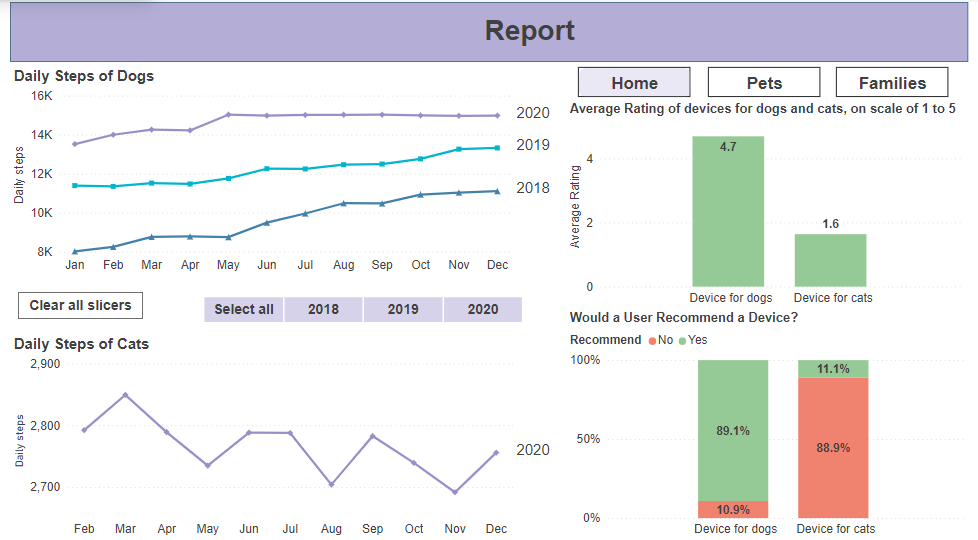

The dashboard page shown, as its layout file describes it:
{"tool":"powerbi","page":{"name":"Home","canvas":[1280,720],"ordinal":0},"visuals":[{"type":"lineChart","title":"Daily Steps of Dogs","fields":{"Y":["Avg(Tracker_Data.Daily_Steps)"],"Series":["Date_Table.Year"],"Category":["Date_Table.Month_Short"]},"box":[0,87.7,728.6,280.2],"z":0},{"type":"clusteredColumnChart","title":"Average Rating of devices for dogs and cats, on scale of 1 to 5 ","fields":{"Y":["Avg(Rating_Data.Rating)"],"Category":["Rating_Data.Device type"]},"box":[743,132.2,536,278.8],"z":1000},{"type":"shape","box":[0,0,1280,80],"z":2000},{"type":"actionButton","title":"Pets Info","box":[932.3,87.3,149.5,40.3],"z":3000},{"type":"actionButton","title":"Families Info","box":[1103.6,87.3,149.5,40.3],"z":4000},{"type":"lineChart","title":"Daily Steps of Cats","fields":{"Y":["Avg(Tracker_Data.Daily_Steps)"],"Series":["Date_Table.Year"],"Category":["Date_Table.Month_Short"]},"box":[0,445.5,728.6,274.5],"z":5000},{"type":"slicer","fields":{"Values":["Date_Table.Year"]},"box":[234.3,388,474.3,46],"z":6000},{"type":"textbox","box":[513.1,11.5,362.2,57.5],"z":7000},{"type":"hundredPercentStackedColumnChart","title":"Would a User Recommend a Device?","fields":{"Y":["CountNonNull(Rating_Data.Tracker_ID)"],"Category":["Rating_Data.Device type"],"Series":["Rating_Data.Recommend"]},"box":[743,411,536,309],"z":8000},{"type":"actionButton","title":"Pets Info","box":[759.3,87.3,149.5,40.3],"z":9000},{"type":"actionButton","box":[10.1,388,166.7,35.9],"z":11000}]}

Visuals, with their boxes in screenshot pixels (x1, y1, x2, y2), scaled from the page's 1280x720 canvas onto the 978x540 screenshot:
"Daily Steps of Dogs" lineChart: (0,66,557,276)
"Average Rating of devices for dogs and cats, on scale of 1 to 5 " clusteredColumnChart: (568,99,977,308)
shape: (0,0,977,60)
"Pets Info" actionButton: (712,65,827,96)
"Families Info" actionButton: (843,65,957,96)
"Daily Steps of Cats" lineChart: (0,334,557,539)
slicer - Date_Table.Year: (179,291,541,326)
textbox: (392,9,669,52)
"Would a User Recommend a Device?" hundredPercentStackedColumnChart: (568,308,977,539)
"Pets Info" actionButton: (580,65,694,96)
actionButton: (8,291,135,318)
